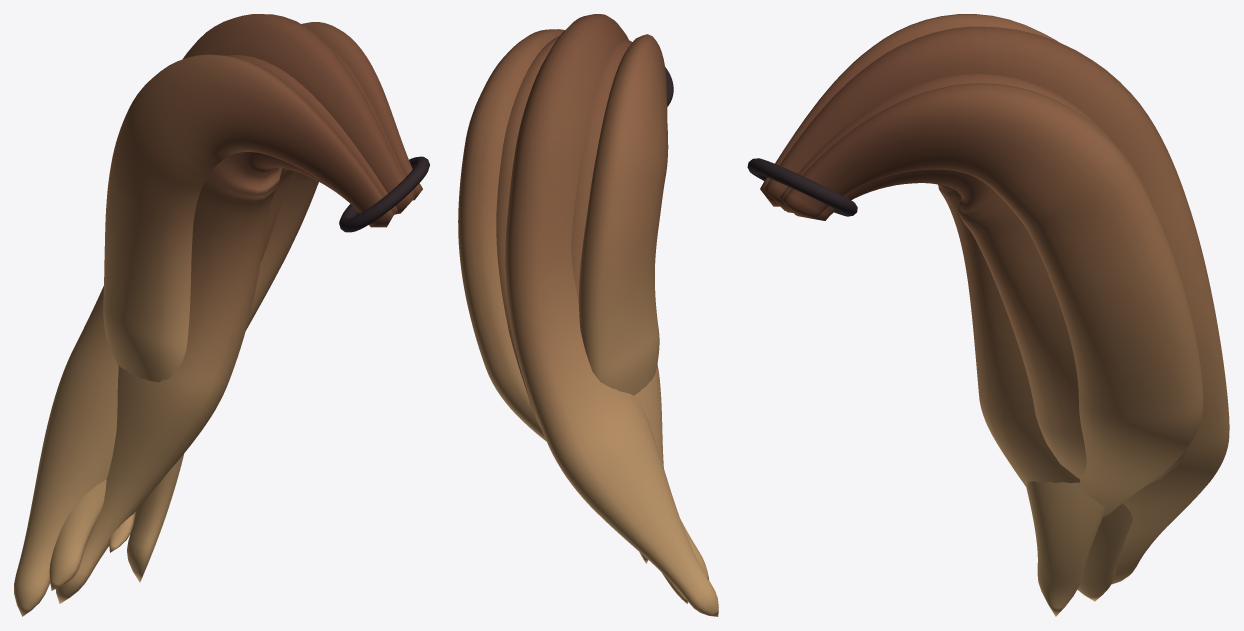
File: beanie-ponytail-ombre.glb
The picture shows the model from 3 angles, left to right: view 1: azimuth 30°, elevation 25°; view 2: azimuth 150°, elevation 25°; view 3: azimuth 270°, elevation 25°; orthographic projection. The views are drawn at different scales.
Visible parts, largest first — view 1: Hair / rounded tail220 0, Hair / rounded tail220 1, Hair / rounded tail220 2, Hair / rounded tail220 3, Hair / rounded tail220 4, Hair / tie220; view 2: Hair / rounded tail220 2, Hair / rounded tail220 0, Hair / rounded tail220 4, Hair / rounded tail220 1, Hair / rounded tail220 3; view 3: Hair / rounded tail220 4, Hair / rounded tail220 2, Hair / rounded tail220 3, Hair / rounded tail220 1, Hair / rounded tail220 0, Hair / tie220.
Boxes of the visible parts, x1,y1,x2,y2 form: Hair / rounded tail220 0: (103,54,394,582); Hair / rounded tail220 1: (55,55,397,603); Hair / rounded tail220 2: (14,14,414,616); Hair / rounded tail220 3: (49,47,415,590); Hair / rounded tail220 4: (109,22,422,552); Hair / tie220: (339,156,429,232); Hair / rounded tail220 2: (505,14,718,616); Hair / rounded tail220 0: (578,34,668,563); Hair / rounded tail220 4: (458,29,564,441); Hair / rounded tail220 1: (571,39,687,603); Hair / rounded tail220 3: (496,36,708,579); Hair / rounded tail220 4: (783,83,1203,516); Hair / rounded tail220 2: (764,26,1229,584); Hair / rounded tail220 3: (779,74,1191,484); Hair / rounded tail220 1: (787,184,1132,601); Hair / rounded tail220 0: (760,14,1105,616); Hair / tie220: (747,158,857,216).
Bounding box in the file's own units: 0.2151 × 0.4144 × 0.2673.
6 materials, 5 textured.
